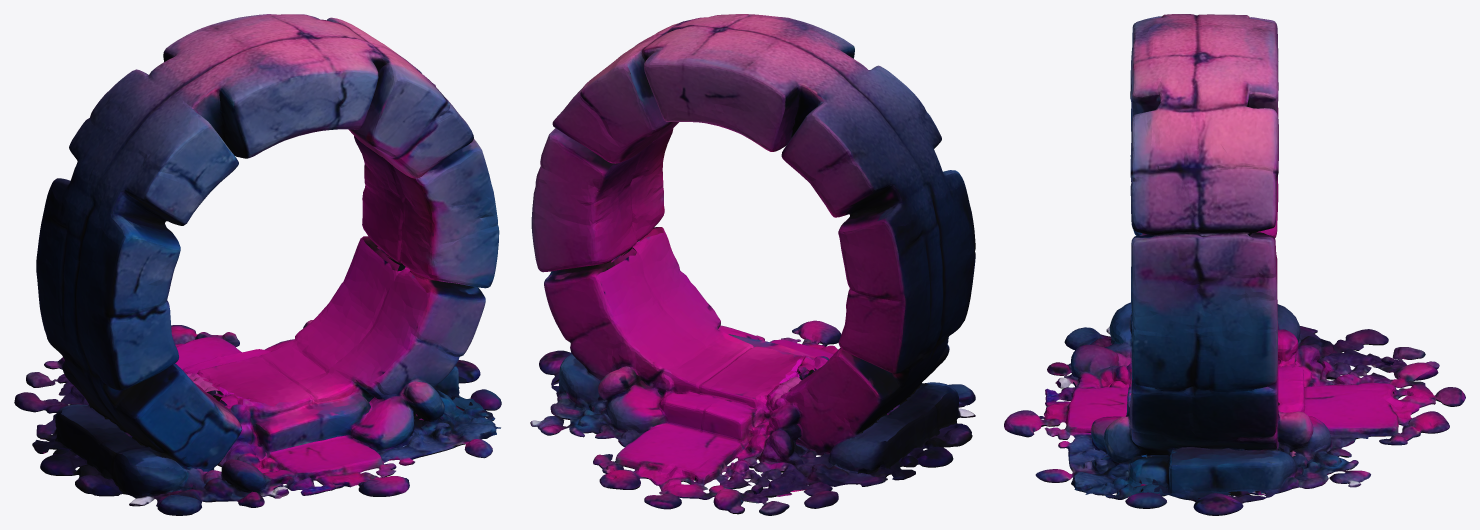
File: ring-fragment-west-generated-2026-04-20T00-06-05-730Z.high.glb
3 views of the same model, side by side, from view 1: azimuth 30°, elevation 25°; view 2: azimuth 150°, elevation 25°; view 3: azimuth 270°, elevation 25° (orthographic). The views are drawn at different scales.
Parts seen in each view (by area): view 1: temp_mesh.ply; view 2: temp_mesh.ply; view 3: temp_mesh.ply.
Boxes of the visible parts, x1=… form: temp_mesh.ply: x1=14, y1=14, x2=501, y2=515; temp_mesh.ply: x1=530, y1=14, x2=975, y2=515; temp_mesh.ply: x1=1004, y1=14, x2=1465, y2=515.
Size of the model in its own units: 1.97 by 1.71 by 1.88.
1 material, 1 textured.
